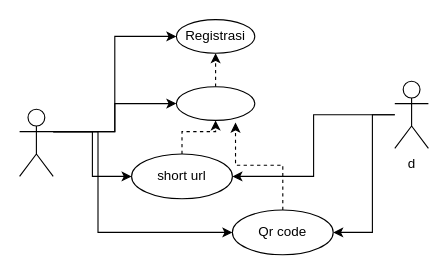
Some shapes in this 448 by 274 pixel diagram are drawn without their labels. The shapes that lost their labels are listed below. From the top down, each one's centre as x and y in pixels, then its label:
point (215, 103): Login
point (35, 142): Actor
